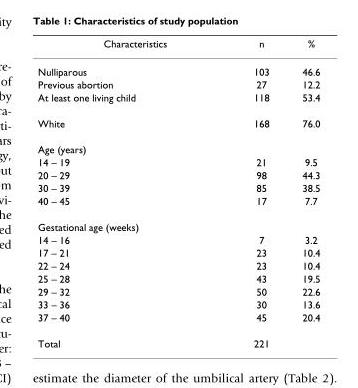table: (37, 37, 319, 348)
table column: (37, 37, 209, 348), (209, 37, 285, 348), (285, 37, 319, 348)
table column header: (37, 37, 319, 57)
table projected row header: (37, 135, 319, 155), (37, 213, 319, 232)
table row: (37, 109, 319, 135), (37, 37, 319, 57), (37, 57, 319, 77), (37, 135, 319, 155), (37, 90, 319, 109), (37, 194, 319, 213), (37, 213, 319, 232), (37, 310, 319, 329), (37, 329, 319, 348), (37, 77, 319, 90), (37, 155, 319, 168), (37, 168, 319, 181), (37, 181, 319, 194), (37, 232, 319, 245), (37, 245, 319, 258), (37, 258, 319, 271), (37, 271, 319, 284), (37, 284, 319, 297), (37, 297, 319, 310)
